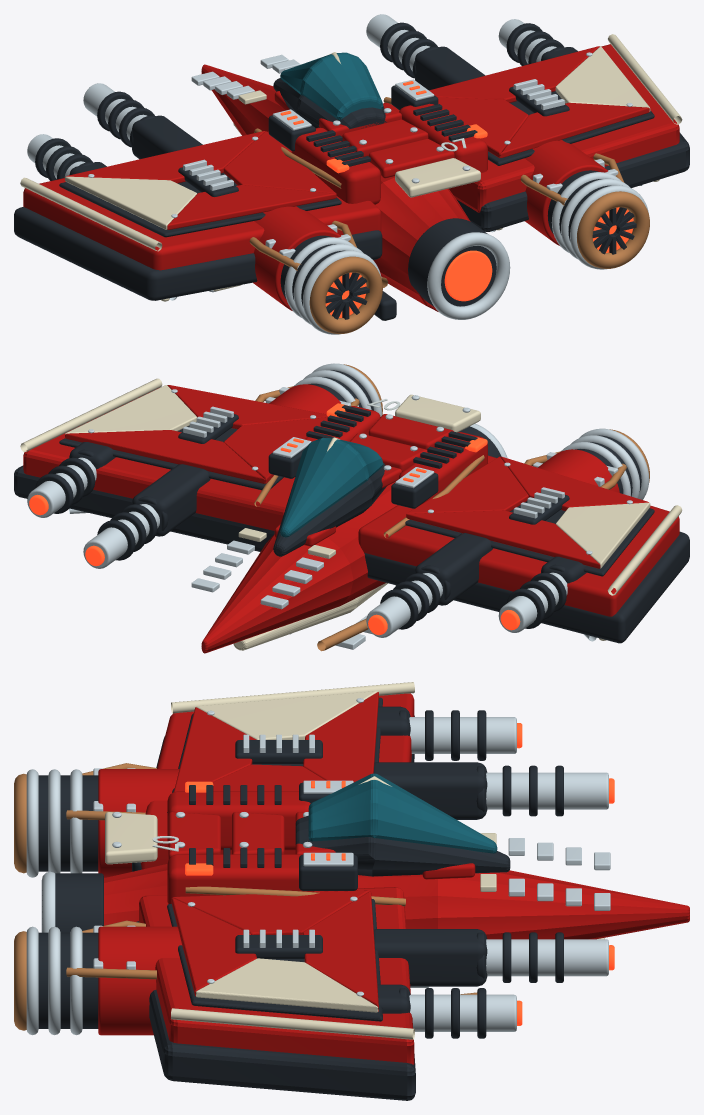
3 views of the same model, one above another, from view 1: azimuth 30°, elevation 25°; view 2: azimuth 150°, elevation 25°; view 3: azimuth 270°, elevation 25° (orthographic). The views are drawn at different scales.
Visible parts, largest first — view 1: SolidHull_07; view 2: SolidHull_07; view 3: SolidHull_07.
Part boxes in pixels (left/top/right/bottom): SolidHull_07: left=14, top=14, right=689, bottom=334; SolidHull_07: left=14, top=363, right=689, bottom=653; SolidHull_07: left=14, top=682, right=689, bottom=1100.
Size of the model in its own units: 3.88 by 1.15 by 3.09.
